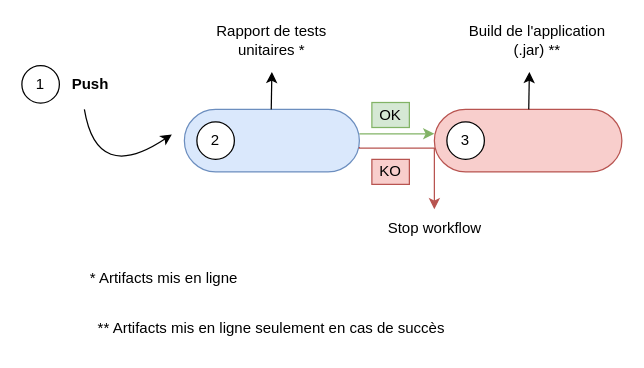
Image size: 644x368. Some labels were removed from this diagram. Each missing label, with the box of its shape:
Build application: (433, 108, 622, 172)
Unit tests: (183, 108, 359, 172)
